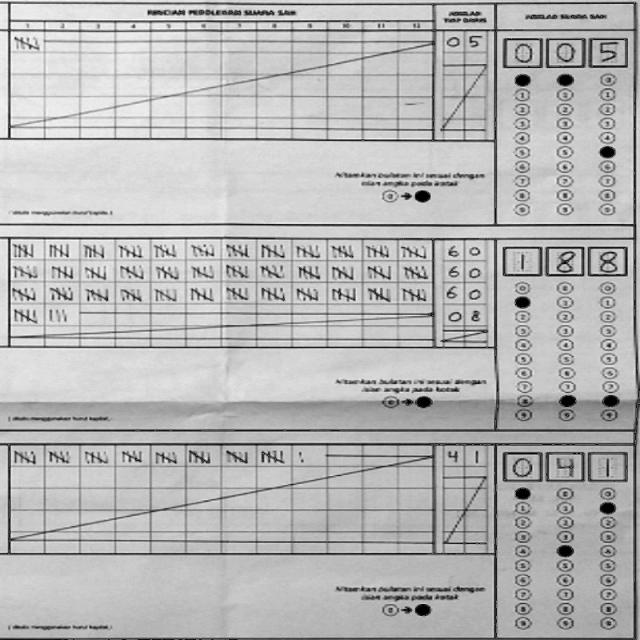Suara: (498, 30, 630, 72), (498, 238, 628, 278), (498, 446, 630, 484)
